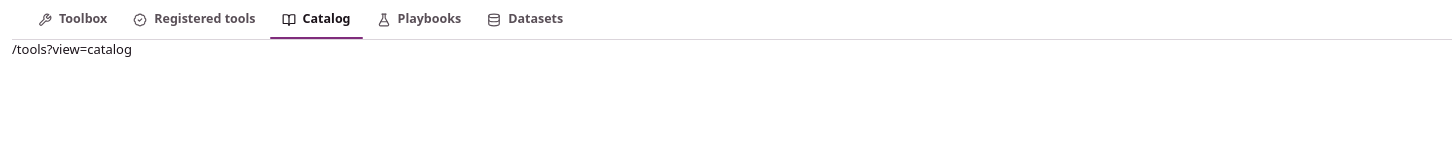
Test: SubNav › shows the Tools area's five sections
Click the button "Datasets" at x=525, y=20, box [475, 6, 575, 34]
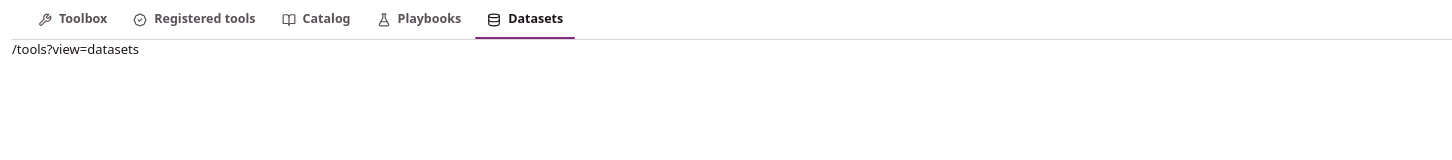
Expected: the text with test id "where" reads "/tools?view=datasets", [12, 40, 139, 58]
